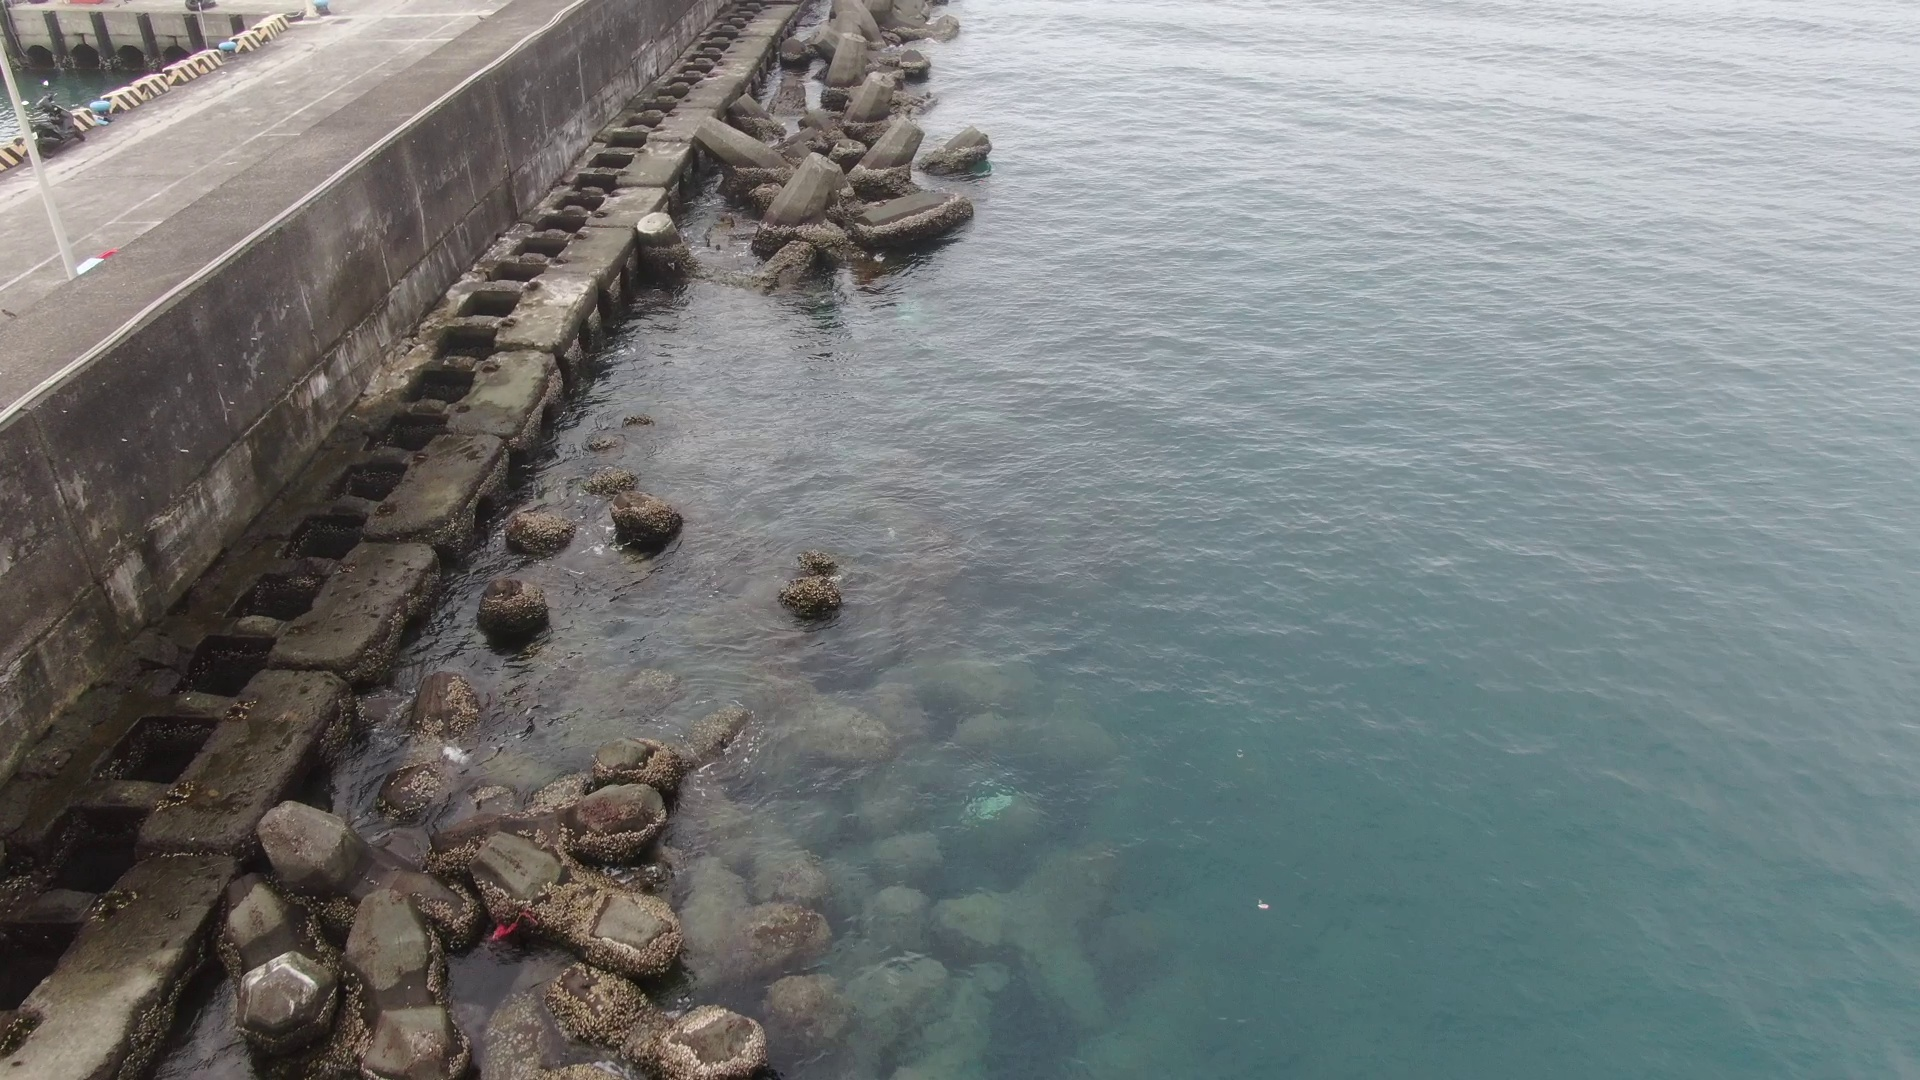garbage: (1253, 894, 1276, 920)
